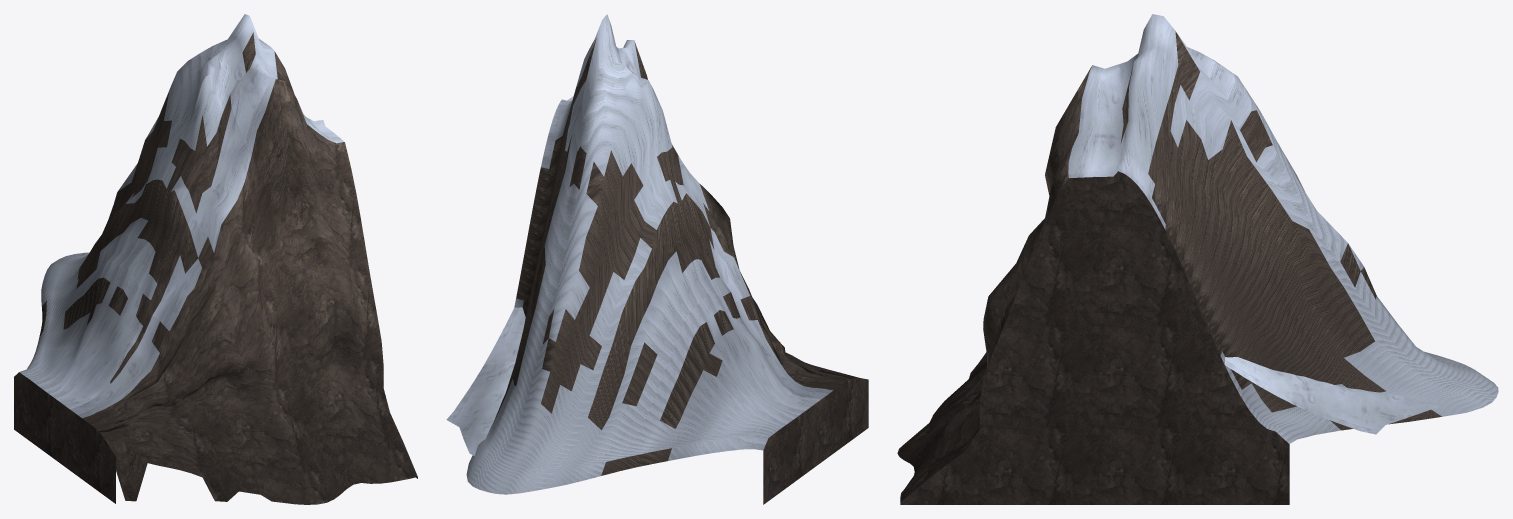
File: seacliff_endcap_left_h5_b_v5_winter.glb
3 views of the same model, side by side, from view 1: azimuth 30°, elevation 25°; view 2: azimuth 150°, elevation 25°; view 3: azimuth 270°, elevation 25° (orthographic). The views are drawn at different scales.
Parts seen in each view (by area): view 1: seacliff_endcap_left_h5_b; view 2: seacliff_endcap_left_h5_b; view 3: seacliff_endcap_left_h5_b.
Boxes of the visible parts, x1,y1,x2,y2 form: seacliff_endcap_left_h5_b: (14, 14, 417, 504); seacliff_endcap_left_h5_b: (446, 14, 868, 504); seacliff_endcap_left_h5_b: (897, 14, 1498, 504).
Size of the model in its own units: 6 by 9.05 by 10.75.
2 materials, 2 textured.
